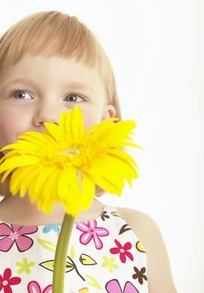face: (1, 37, 100, 186)
